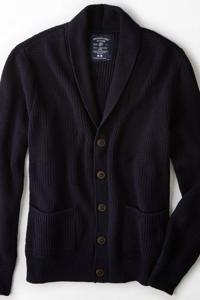C_cardigan sweater: (1, 11, 200, 288)
